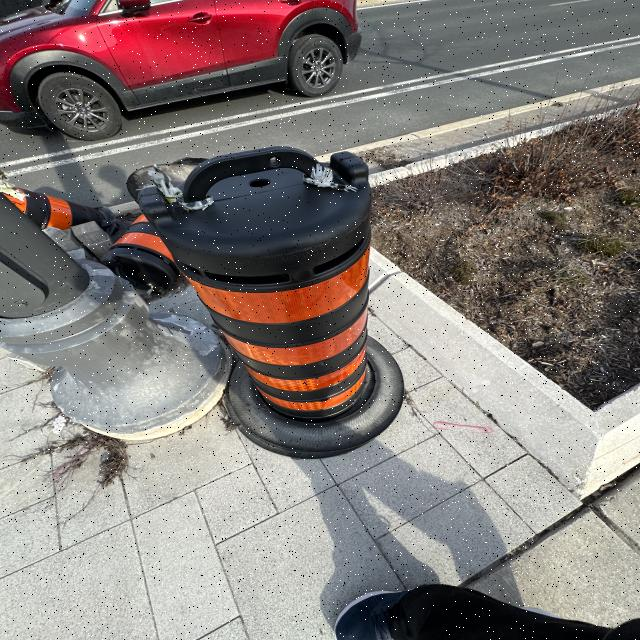Teraffic Barrel: (138, 148, 404, 458), (0, 197, 231, 441), (0, 171, 115, 230), (102, 215, 180, 292)
